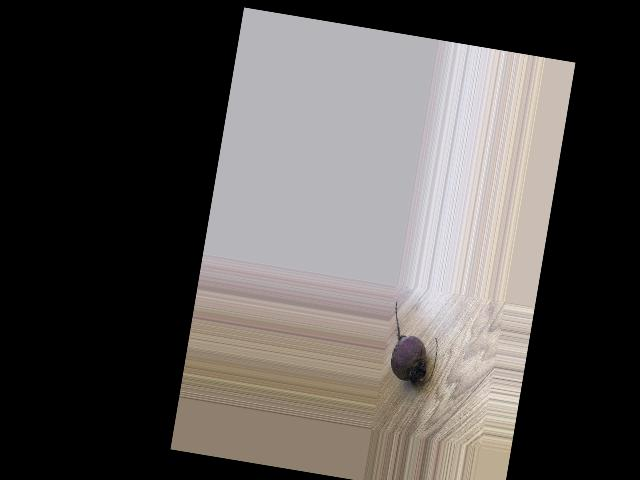beet: (383, 300, 444, 387)
